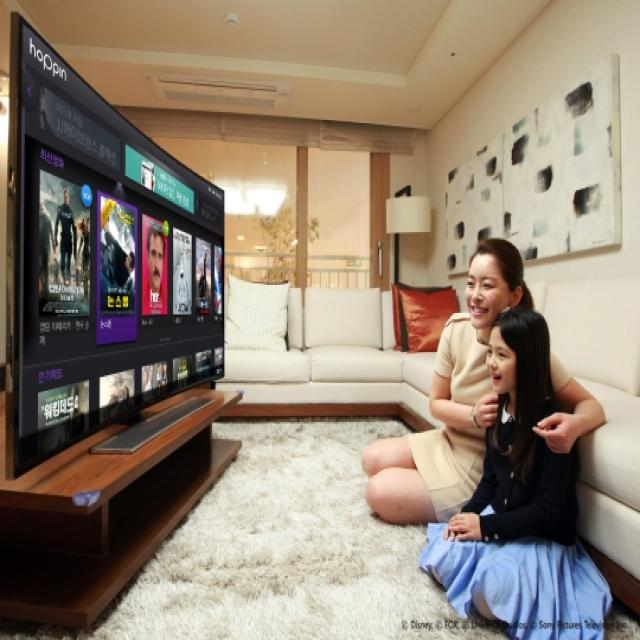tv-person: (3, 0, 605, 606)
